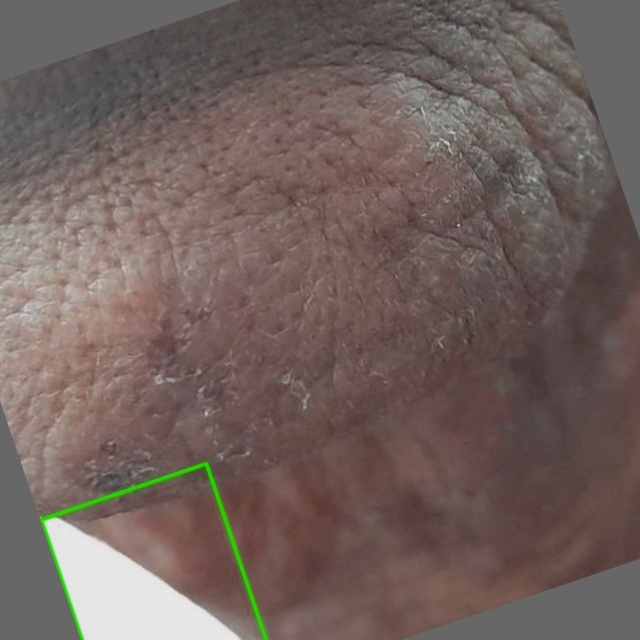Eczema: (40, 463, 265, 639)
